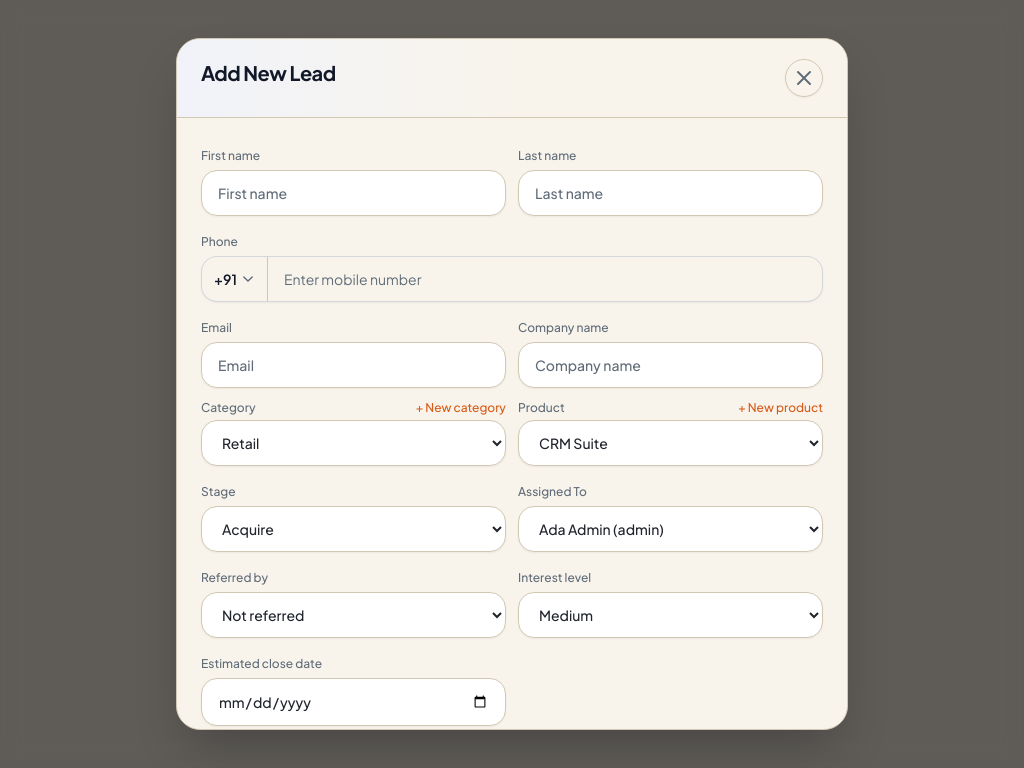
CreateLeadModal (shared lead creation form) › lets an employee open the Create category modal from + New category (no role gate)
The image size is (1024, 768).
Click the button "+ New category".
click(461, 408)  # box [416,400,506,416]
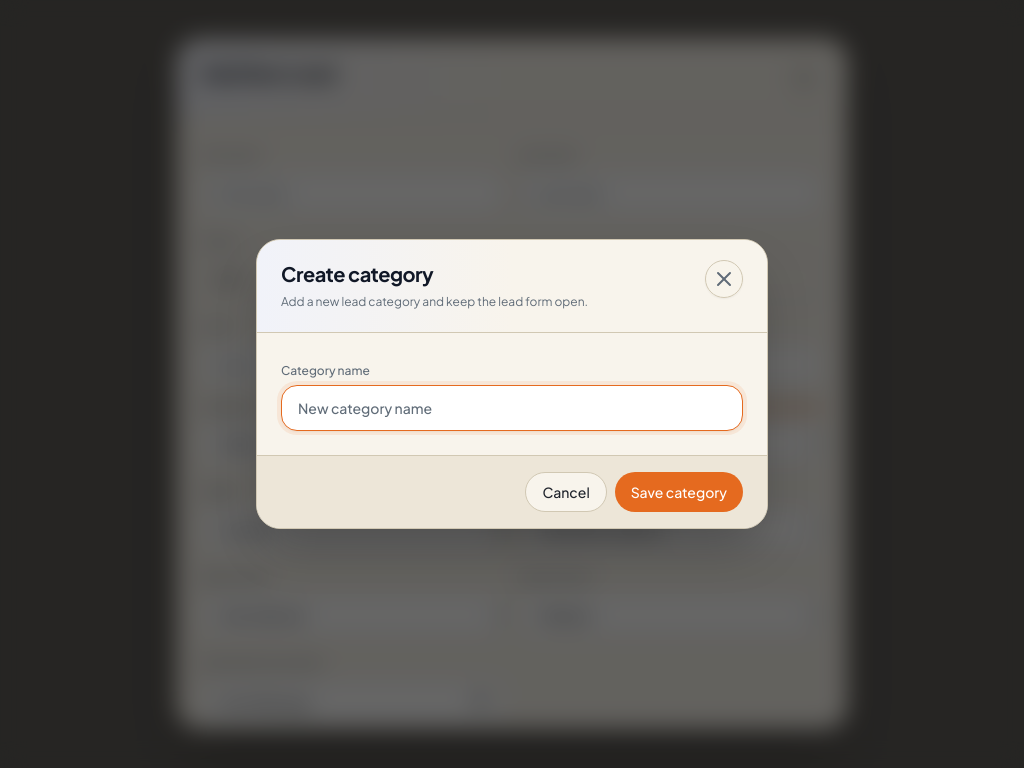
Check: the heading "Create category" is shown, box [281,261,433,286]
